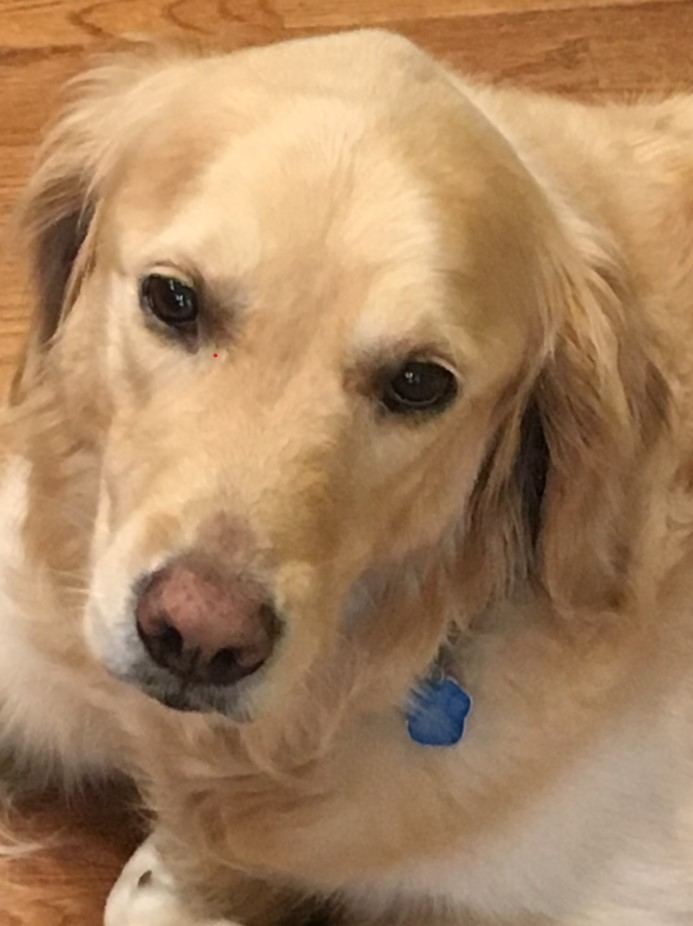bella: (33, 27, 672, 722)
